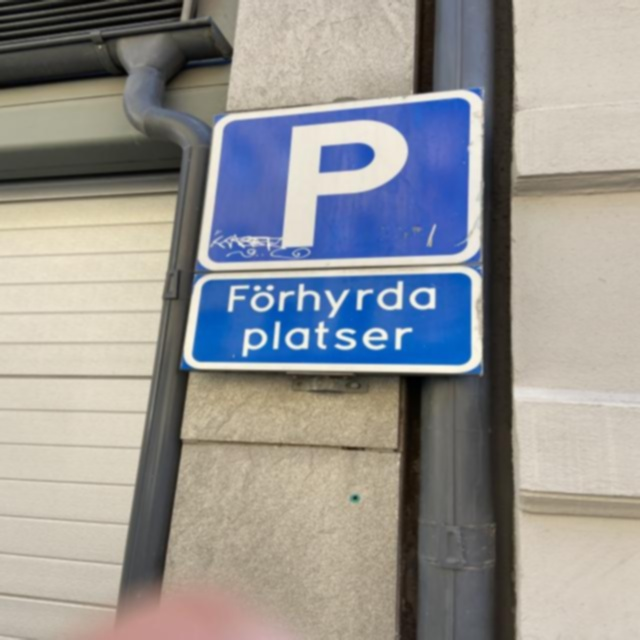P-skylt: (189, 86, 486, 274)
